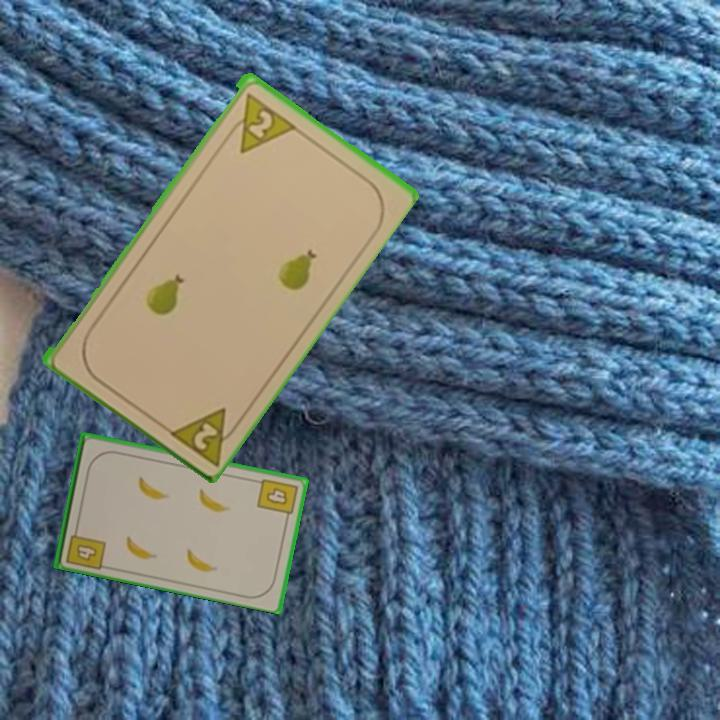2p: (163, 402, 245, 468), (222, 89, 297, 156)
4b: (62, 522, 109, 572), (253, 475, 300, 523)
